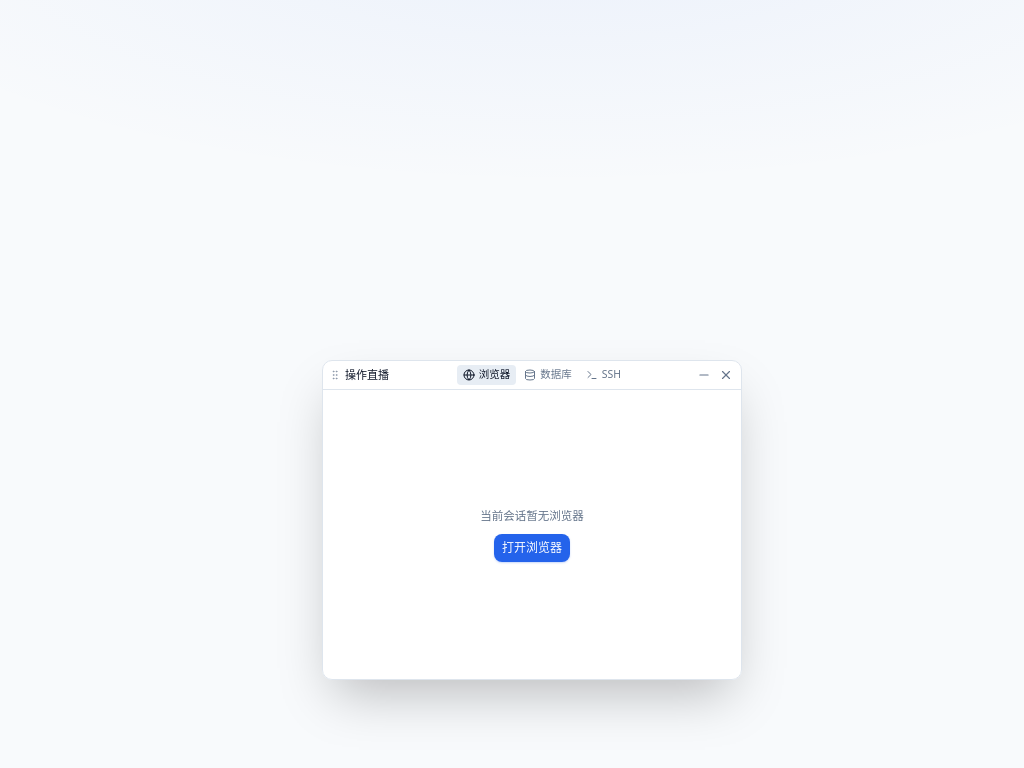
LiveDock：SSH 集成 › 卡片三 tab：点击 SSH 切到 SSH 视图
Expected: the text "暂无 SSH 操作" is not shown
Click the button "SSH".
click(603, 375)  # box [580, 365, 627, 385]
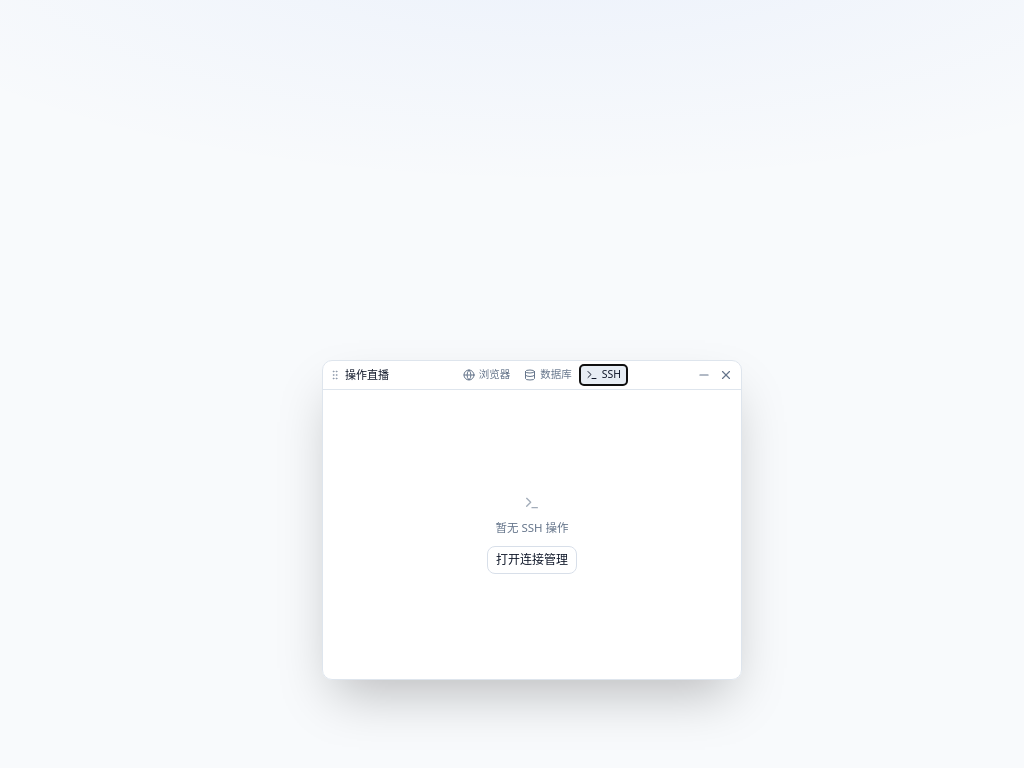
Now the text "暂无 SSH 操作" is shown, box [495, 519, 568, 538]
